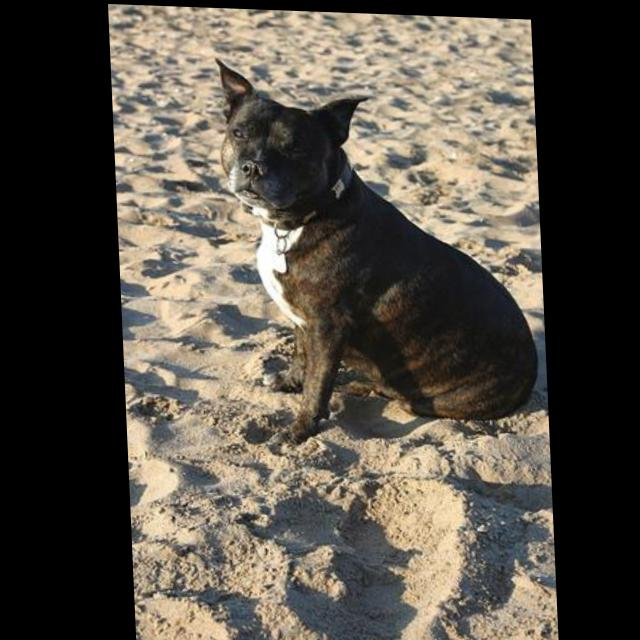staffford: (217, 55, 542, 454)
